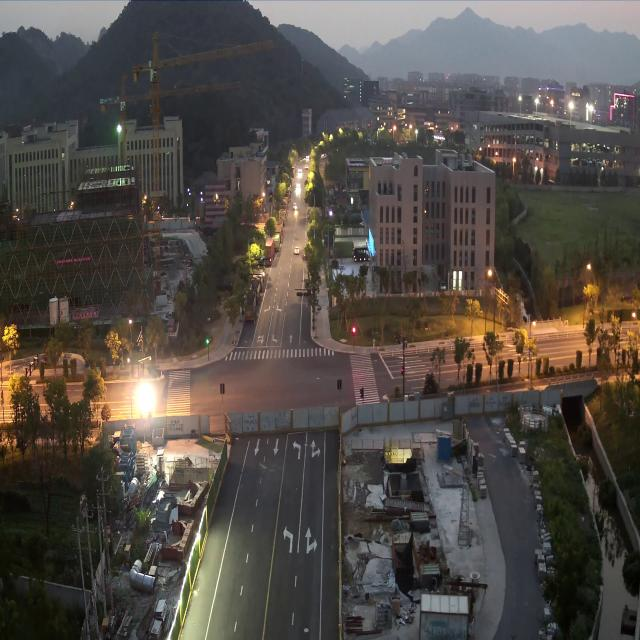UAV: (254, 255, 272, 266)
